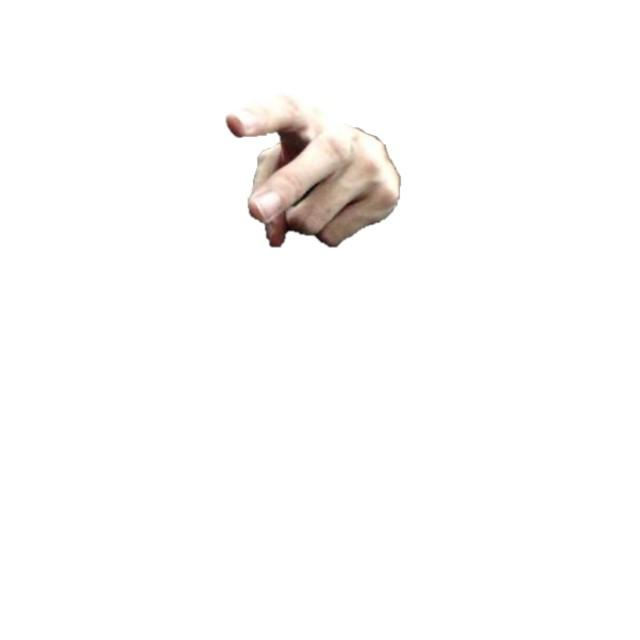tyoki: (223, 91, 402, 249)
